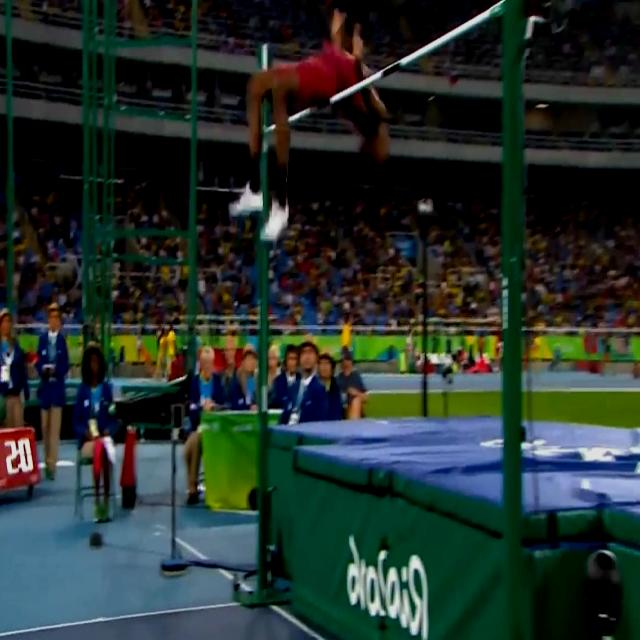jump: (226, 4, 395, 242)
